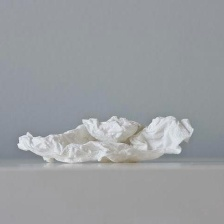tissue: (13, 109, 198, 168)
